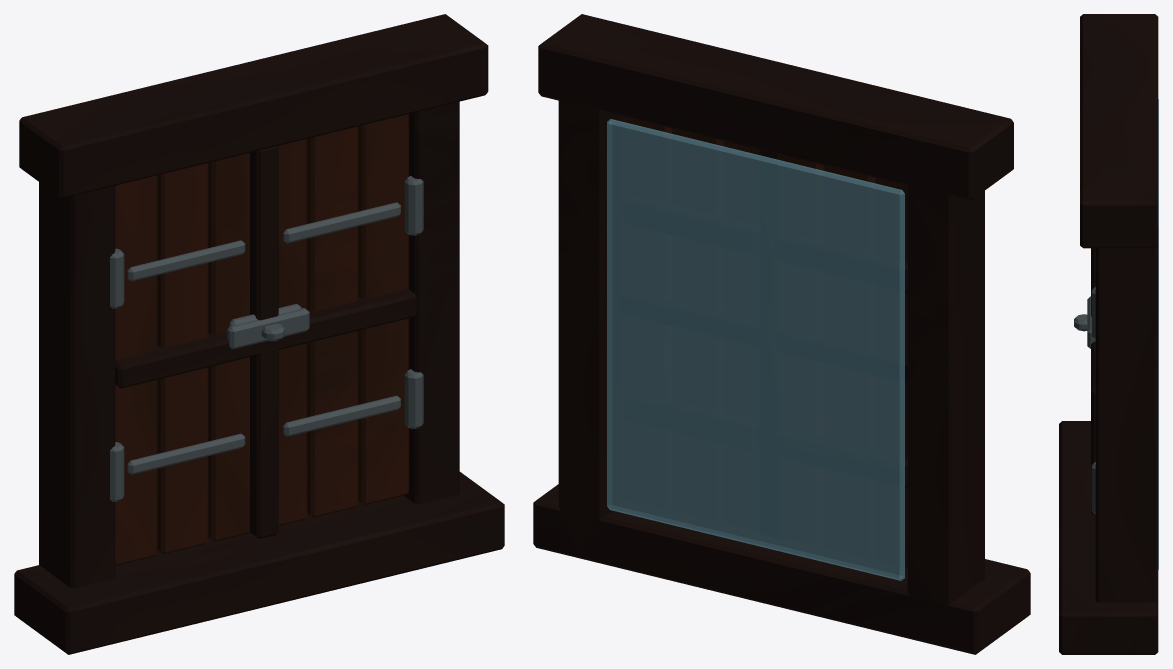
Rendered from timber_window_closed_shutters.glb.
3 renders of one model, left to right at view 1: azimuth 30°, elevation 25°; view 2: azimuth 150°, elevation 25°; view 3: azimuth 270°, elevation 25°, orthographic. The views are drawn at different scales.
Visible parts, largest first — view 1: timber_closed_geometry; view 2: timber_closed_geometry; view 3: timber_closed_geometry.
Boxes of the visible parts, x1=… form: timber_closed_geometry: x1=14, y1=14, x2=504, y2=654; timber_closed_geometry: x1=533, y1=14, x2=1030, y2=654; timber_closed_geometry: x1=1059, y1=14, x2=1158, y2=654.
Bounding box in the file's own units: 0.88 × 0.955 × 0.191.
4 materials, 2 textured.
